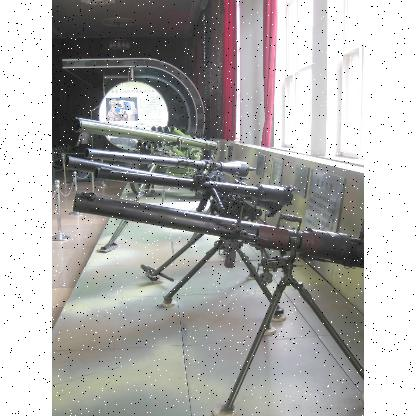gun: (69, 110, 344, 395)
